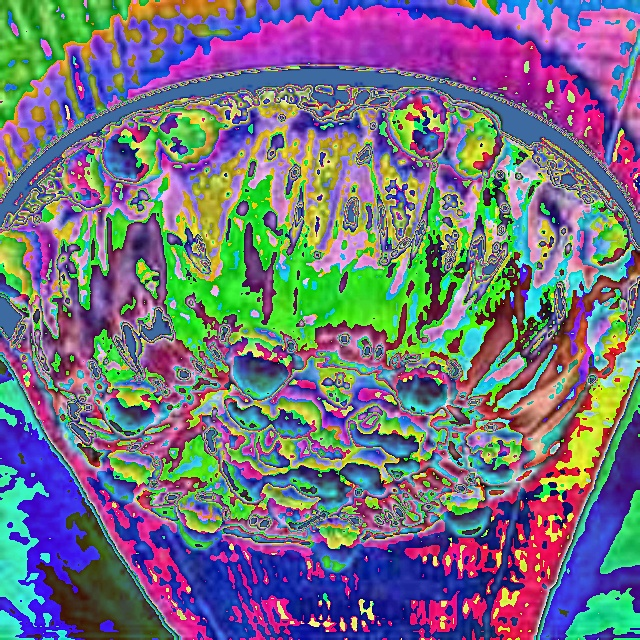background: (0, 93, 640, 574)
